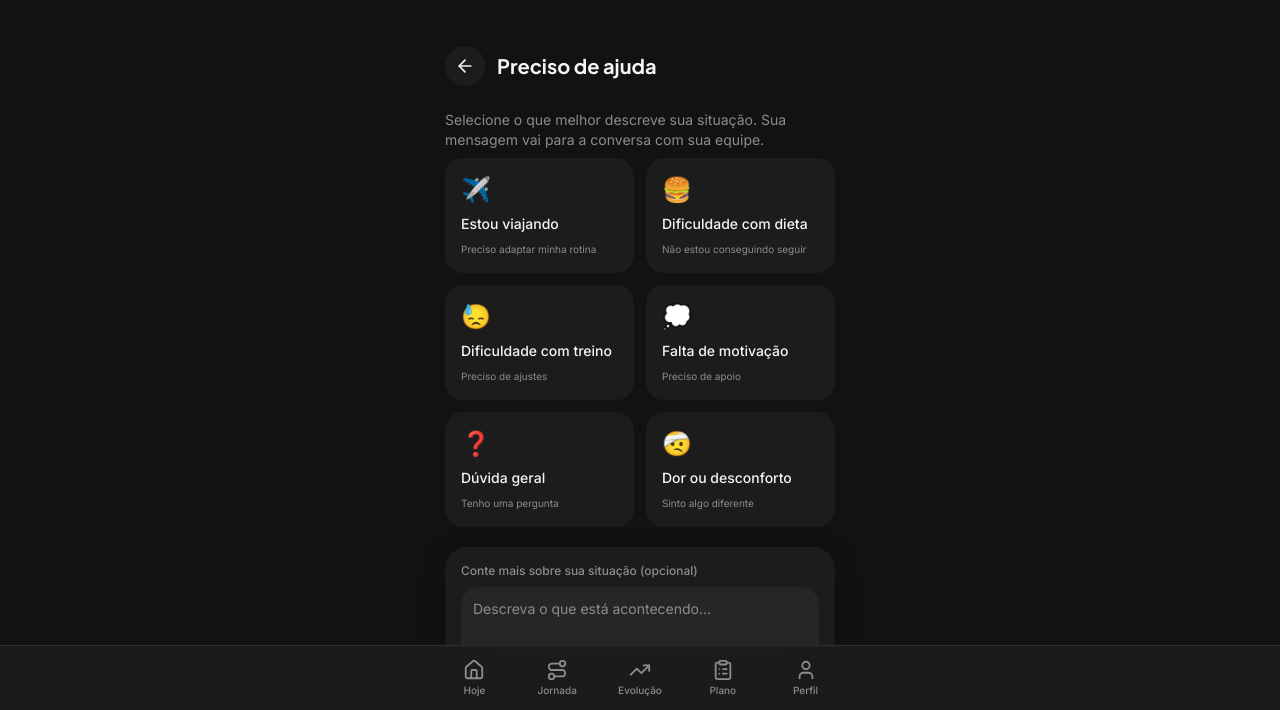
Test case: SOS / o texto dela chega a um humano (WP-APP-7 item 2.1) › a confirmação só aparece DEPOIS do envio resolver, e fala da conversa
The width and height of the screenshot is (1280, 710).
Click the text "Dificuldade com dieta" at (735, 224), box [662,214,808,234]
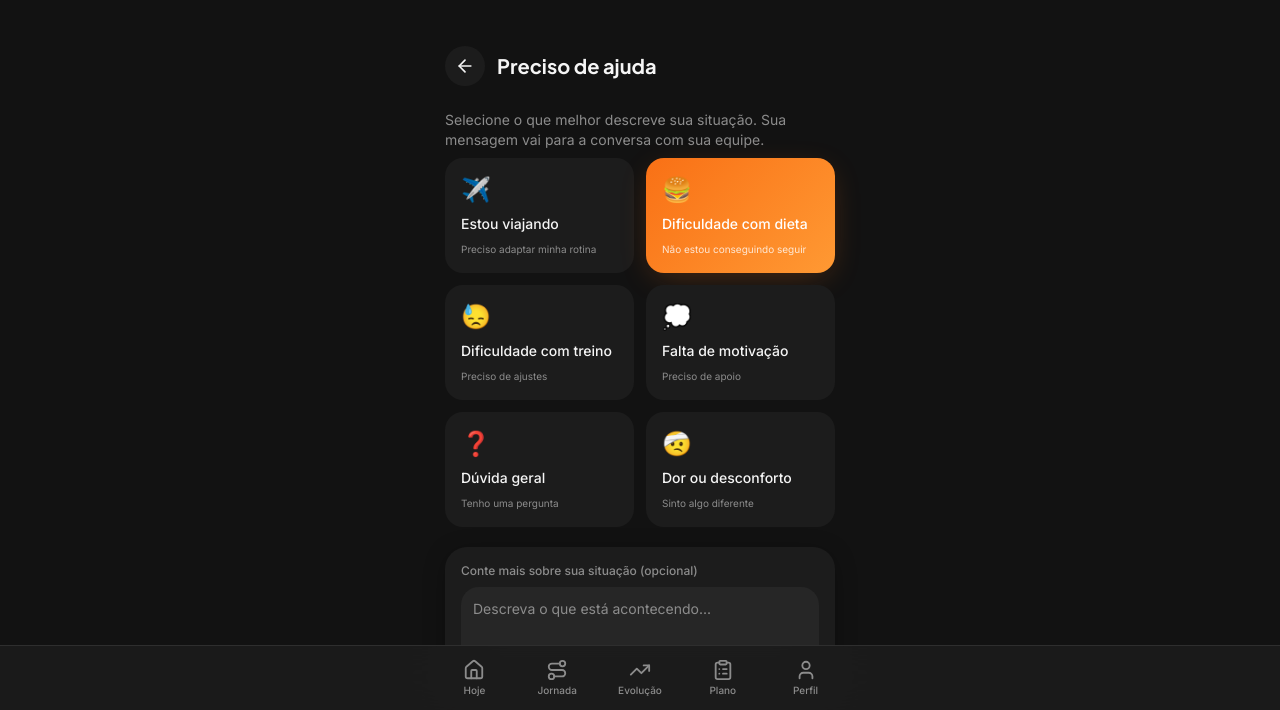
Type "preciso de ajuda com a dieta" into the text box with placeholder "Descreva o que está acontecendo..." at (640, 635), box [461,587,819,683]
(page scrolled)
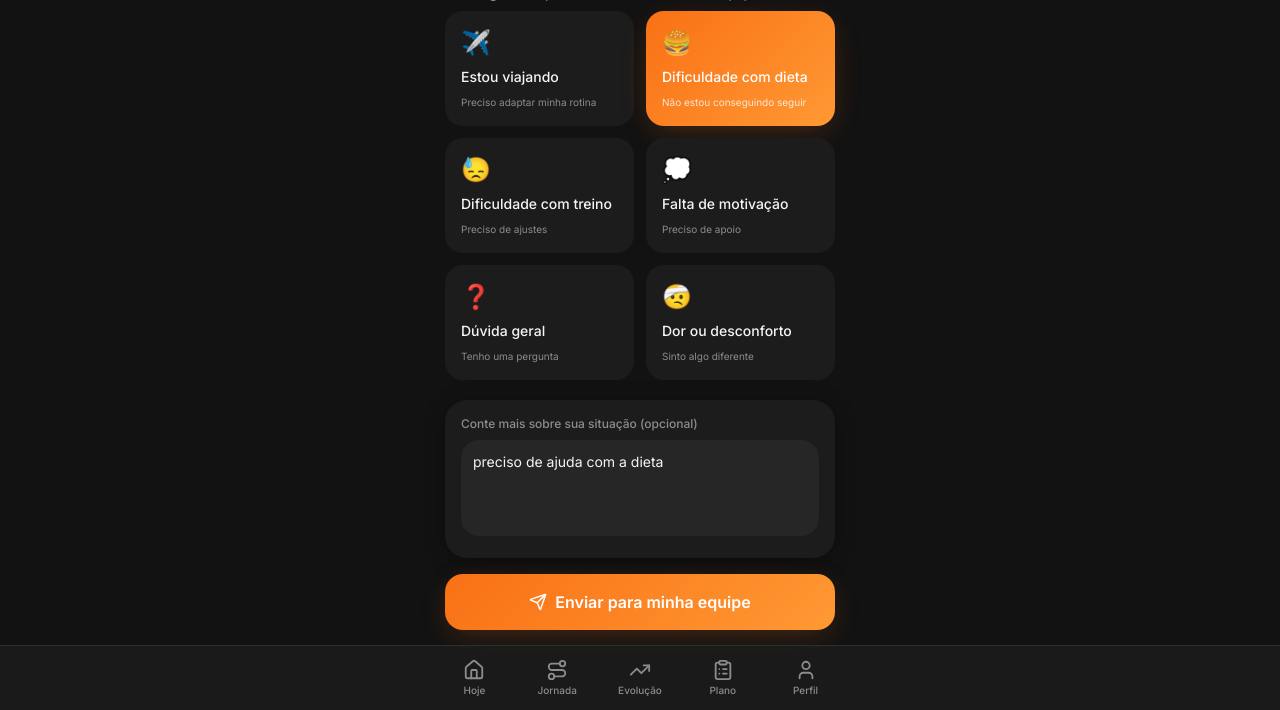
expect the text "Mensagem enviada" is not shown: met
Click the button "Enviar para minha equipe" at (640, 602), box [445,574,835,630]
(page scrolled)
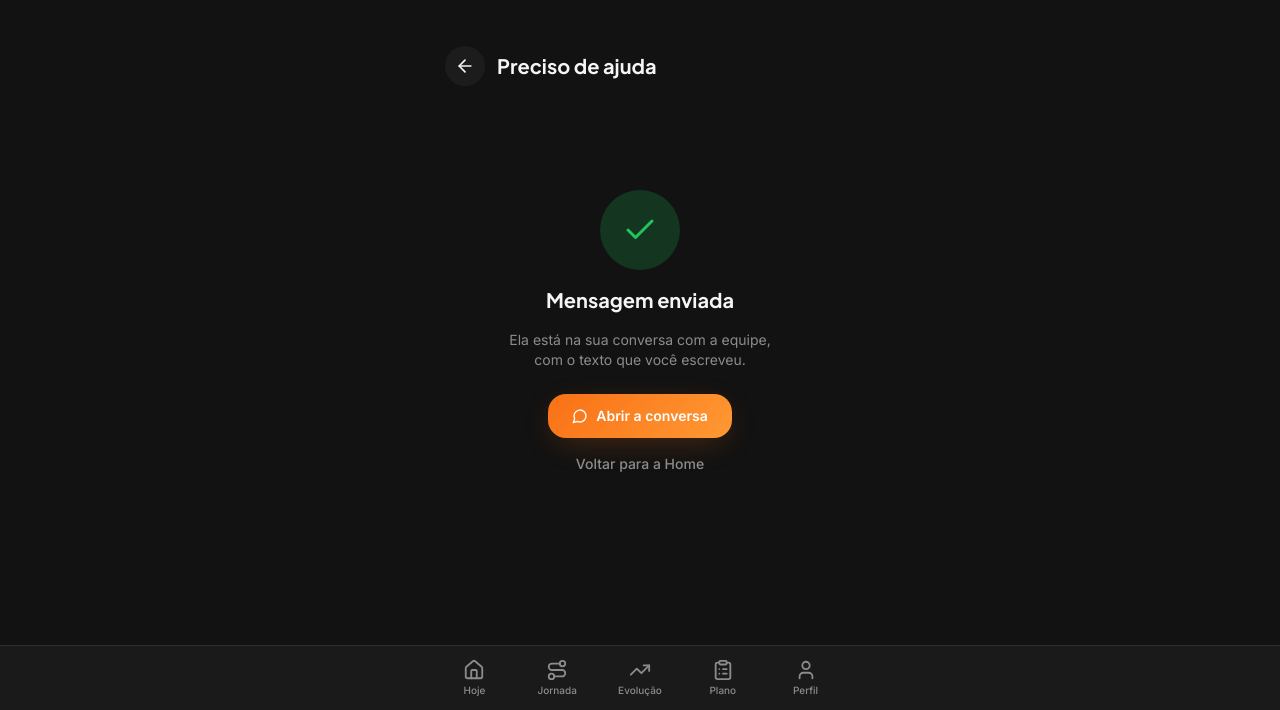
expect the heading "Mensagem enviada" is shown: met, box [546,286,734,314]
expect the text "está na sua conversa com a equipe" is shown: met, box [509,331,771,368]
